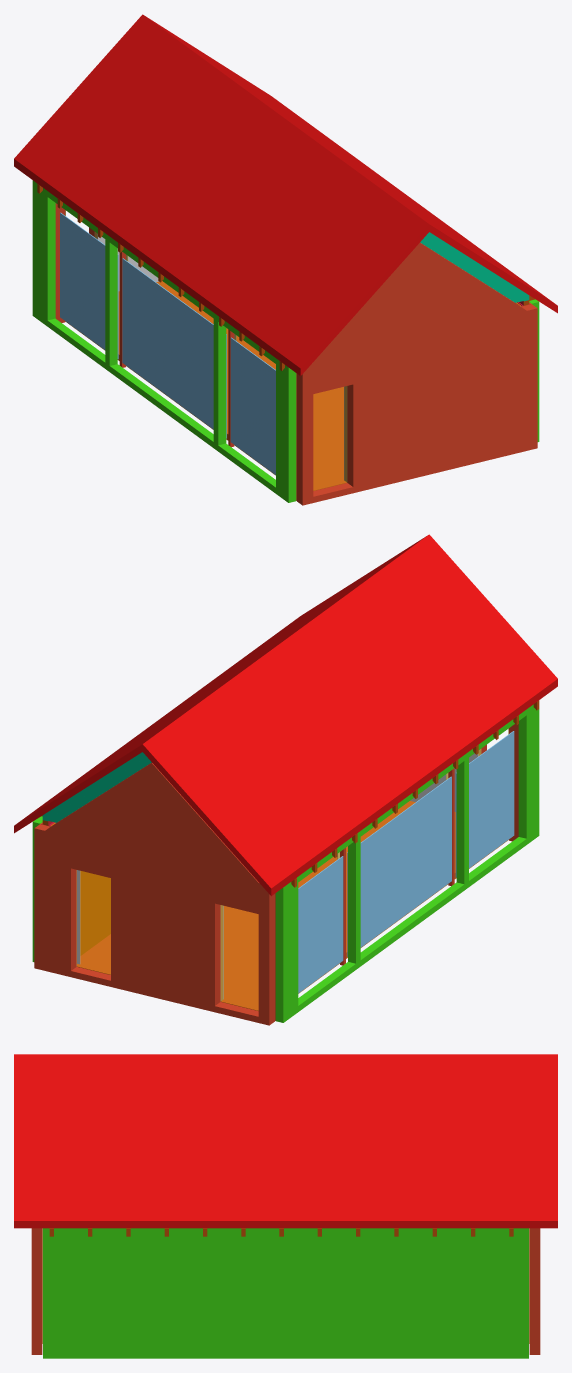
Rendered from obyvak.glb.
The picture shows the model from 3 angles, top to bottom: view 1: azimuth 30°, elevation 25°; view 2: azimuth 150°, elevation 25°; view 3: azimuth 270°, elevation 25°; orthographic projection. The views are drawn at different scales.
Visible parts, largest first — view 1: roofing, masonry (×2), glazing (×3), eps, floor, plenum_wool; view 2: roofing, masonry (×2), glazing (×3), eps, floor, furniture, plenum_wool; view 3: roofing, eps, masonry (×2).
Boxes of the visible parts, x1,y1,x2,y2 form: roofing: (14,14,557,376); masonry (×2): (55,203,537,505); glazing (×3): (60,212,275,474); eps: (32,180,296,502); floor: (65,281,346,490); plenum_wool: (420,232,529,302); roofing: (14,534,557,896); masonry (×2): (34,724,518,1025); glazing (×3): (298,731,514,993); eps: (275,704,539,1022); floor: (77,801,508,1010); furniture: (80,871,110,955); plenum_wool: (42,752,151,822); roofing: (14,1054,557,1228); eps: (43,1228,528,1358); masonry (×2): (31,1228,540,1354).
Bounding box in the file's own units: 6.44 × 6.21 × 12.43.
